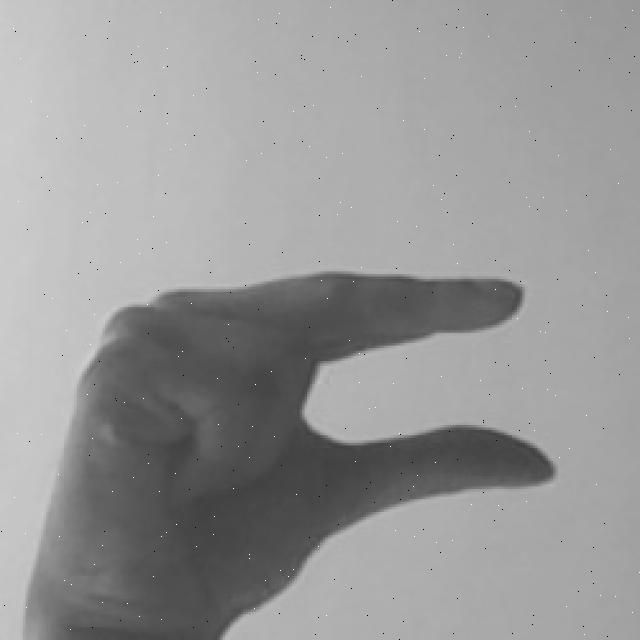G: (23, 266, 561, 640)
